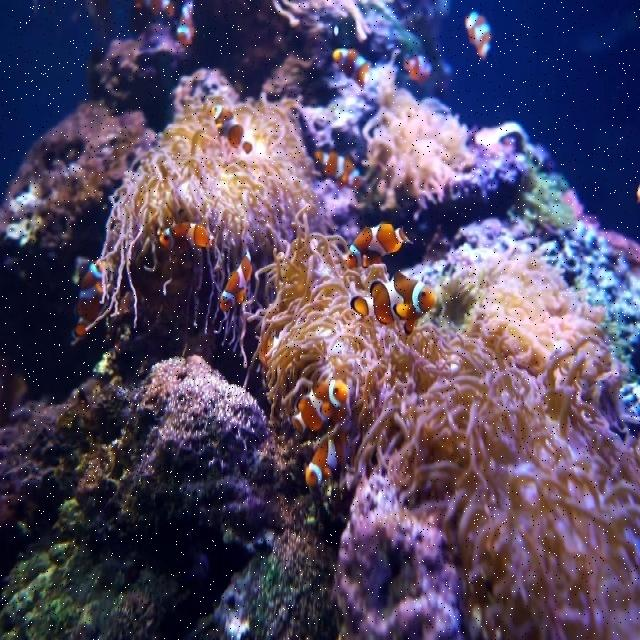fish: (351, 274, 435, 335), (348, 223, 410, 270), (291, 380, 348, 431), (74, 262, 110, 342), (306, 435, 347, 485), (220, 247, 252, 309), (212, 105, 252, 153), (314, 152, 358, 187)
reefs: (253, 216, 639, 639), (100, 104, 320, 335), (337, 473, 470, 639), (365, 68, 515, 215), (114, 353, 270, 478)
